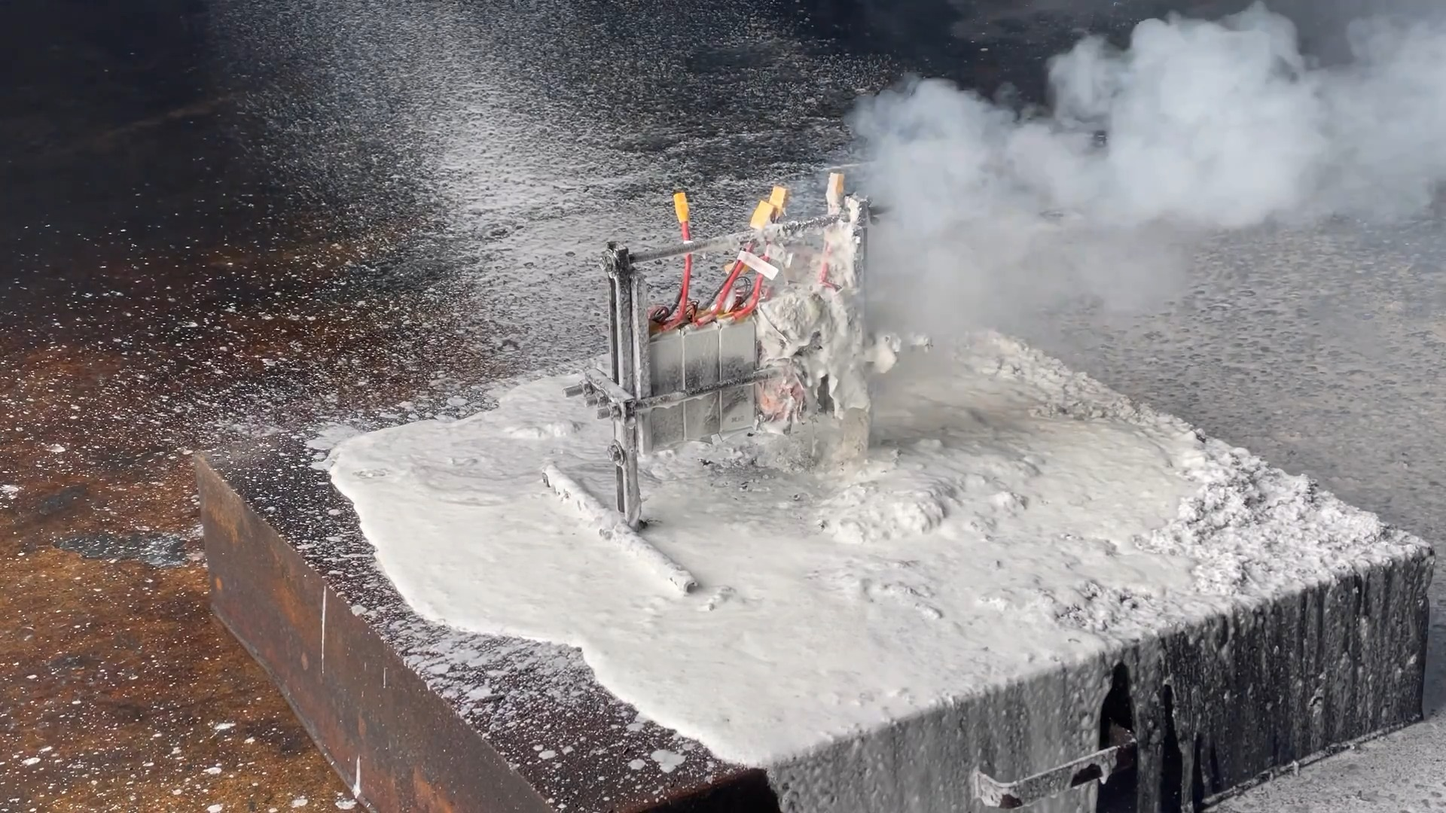smoke: (823, 0, 1446, 358)
